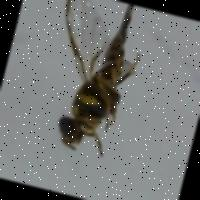Oriental-fruit-fly: (16, 0, 168, 181)
